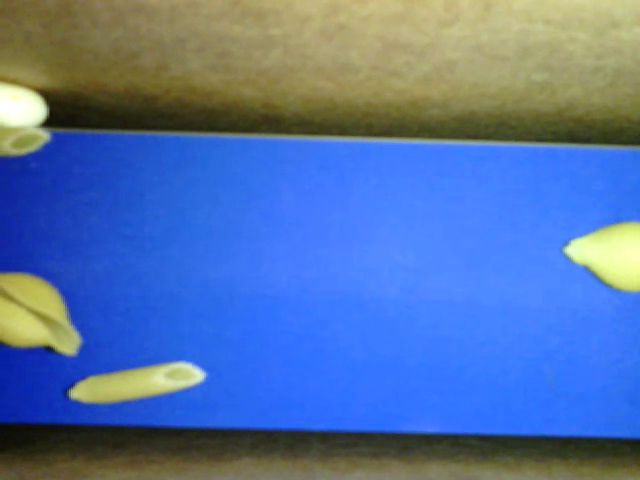penne: (67, 360, 207, 404), (1, 126, 53, 158)
shell: (1, 271, 82, 355), (563, 220, 639, 292)
